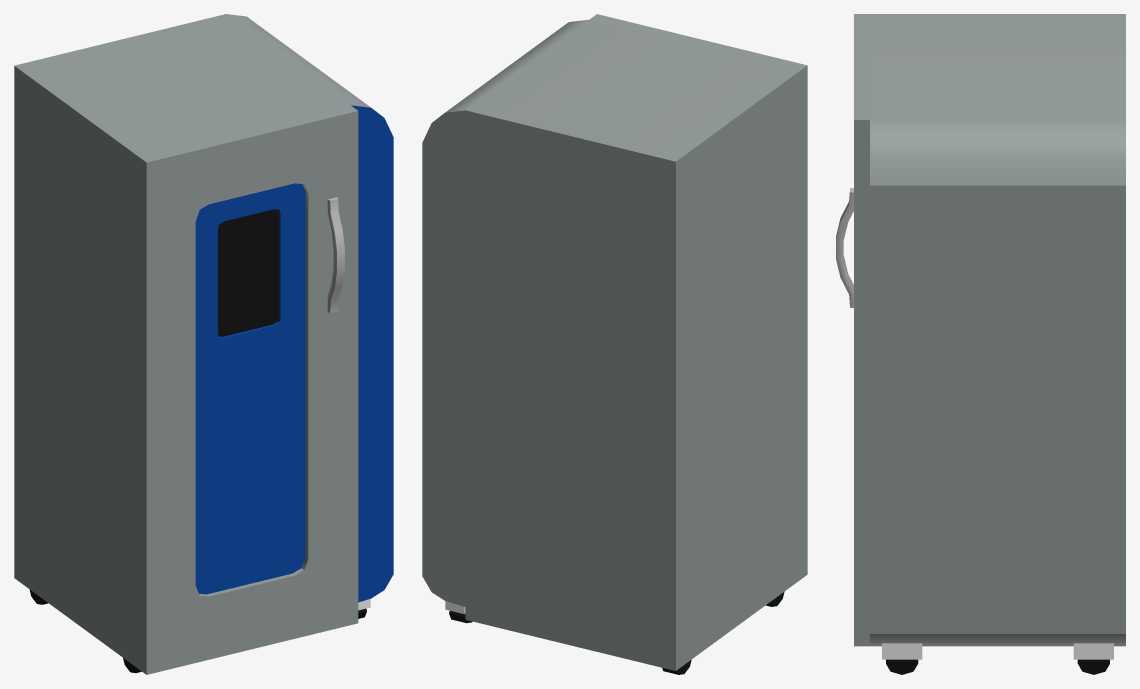
The model's file is sterilizer.fbx.
3 views of the same model, side by side, from view 1: azimuth 30°, elevation 25°; view 2: azimuth 150°, elevation 25°; view 3: azimuth 270°, elevation 25° (orthographic). The views are drawn at different scales.
Visible parts, largest first — view 1: sterilizer; view 2: sterilizer; view 3: sterilizer.
Part boxes in pixels (box(x1,y1,x2,y2)): sterilizer: box(14, 14, 393, 674); sterilizer: box(422, 14, 807, 674); sterilizer: box(836, 14, 1125, 674).
Size of the model in its own units: 0.00433 by 0.00857 by 0.00415.
Materials: 1 (1 with a texture image).
